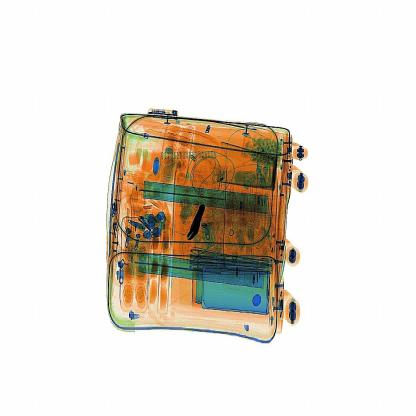knife: (191, 206, 206, 240)
